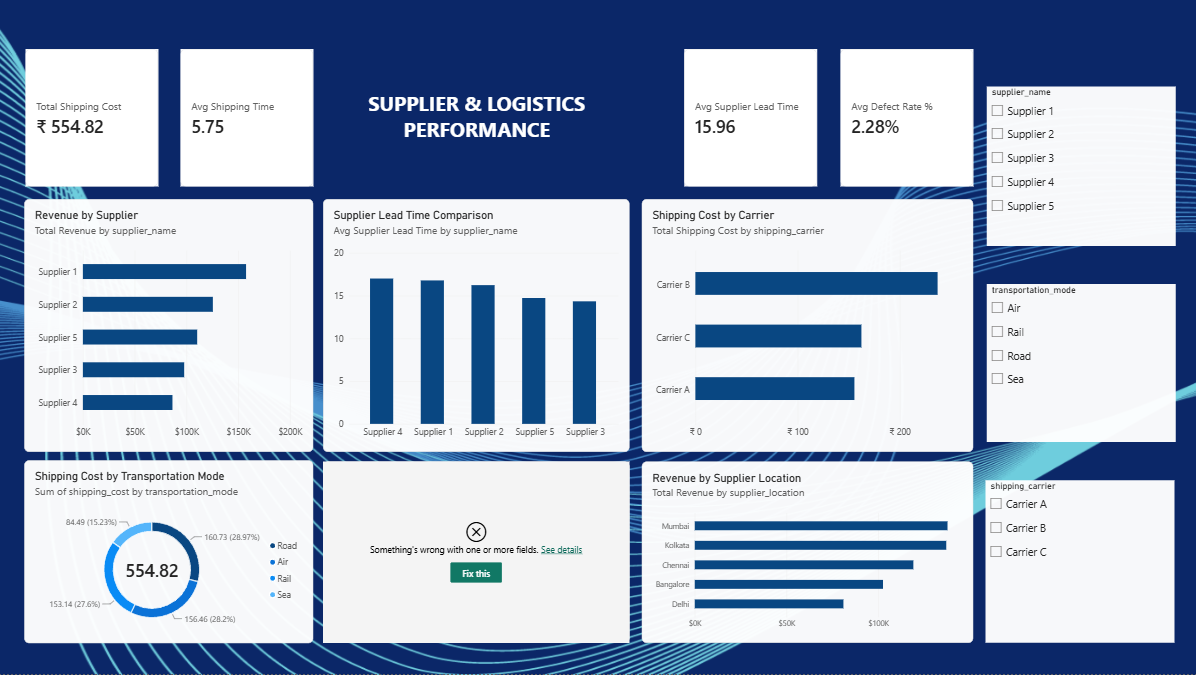

This screenshot's page, from the dashboard's own definition file:
{"tool":"powerbi","page":{"name":"Supplier & Logistics Performance","canvas":[1920,1080],"ordinal":2},"visuals":[{"type":"cardVisual","fields":{"Data":["supply_chain_analytics supply_chain_data.Total Shipping Cost"]},"box":[43.8,80,212.5,220],"z":0},{"type":"cardVisual","fields":{"Data":["supply_chain_analytics supply_chain_data.Avg Shipping Time"]},"box":[292.5,80,212.5,220],"z":1000},{"type":"cardVisual","fields":{"Data":["supply_chain_analytics supply_chain_data.Avg Supplier Lead Time"]},"box":[1097.5,80,212.5,220],"z":2000},{"type":"cardVisual","fields":{"Data":["supply_chain_analytics supply_chain_data.Avg Defect Rate %"]},"box":[1347.5,80,212.5,220],"z":3000},{"type":"clusteredBarChart","title":"Revenue by Supplier","fields":{"Category":["supply_chain_analytics supply_chain_data.supplier_name"],"Y":["supply_chain_analytics supply_chain_data.Total Revenue"]},"box":[42.5,320,462.5,405],"z":4000},{"type":"clusteredColumnChart","title":"Supplier Lead Time Comparison","fields":{"Category":["supply_chain_analytics supply_chain_data.supplier_name"],"Y":["supply_chain_analytics supply_chain_data.Avg Supplier Lead Time"]},"box":[520,320,490,405],"z":5000},{"type":"clusteredBarChart","title":"Shipping Cost by Carrier","fields":{"Category":["supply_chain_analytics supply_chain_data.shipping_carrier"],"Y":["supply_chain_analytics supply_chain_data.Total Shipping Cost"]},"box":[1030,320,530,405],"z":6000},{"type":"donutChart","title":"Shipping Cost by Transportation Mode","fields":{"Category":["supply_chain_analytics supply_chain_data.transportation_mode"],"Y":["Sum(supply_chain_analytics supply_chain_data.shipping_cost)"]},"box":[42.5,737.5,462.5,292.5],"z":7000},{"type":"clusteredBarChart","title":"Defect Rate by Supplier","fields":{"Category":["supply_chain_analytics supply_chain_data.supplier_name"],"Y":["supply_chain_analytics supply_chain_data.Avg Defect Rate"]},"box":[520,740,490,290],"z":8000},{"type":"barChart","title":"Revenue by Supplier Location","fields":{"Category":["supply_chain_analytics supply_chain_data.supplier_location"],"Y":["supply_chain_analytics supply_chain_data.Total Revenue"]},"box":[1030,740,530,290],"z":9000},{"type":"slicer","fields":{"Values":["supply_chain_analytics supply_chain_data.supplier_name"]},"box":[1582.5,140,302.5,255],"z":9001},{"type":"slicer","fields":{"Values":["supply_chain_analytics supply_chain_data.transportation_mode"]},"box":[1582.5,455,302.5,252.5],"z":9002},{"type":"slicer","fields":{"Values":["supply_chain_analytics supply_chain_data.shipping_carrier"]},"box":[1580,770,302.5,260],"z":9003},{"type":"textbox","box":[587.5,143.8,356.2,91.2],"z":9004}]}

Visuals, with their boxes in screenshot pixels (x1, y1, x2, y2), scaled from the page's 1920x1080 canvas onto the 1196x675 screenshot:
cardVisual - supply_chain_analytics supply_chain_data.Total Shipping Cost: Rect(27, 50, 160, 188)
cardVisual - supply_chain_analytics supply_chain_data.Avg Shipping Time: Rect(182, 50, 315, 188)
cardVisual - supply_chain_analytics supply_chain_data.Avg Supplier Lead Time: Rect(684, 50, 816, 188)
cardVisual - supply_chain_analytics supply_chain_data.Avg Defect Rate %: Rect(839, 50, 972, 188)
"Revenue by Supplier" clusteredBarChart: Rect(26, 200, 315, 453)
"Supplier Lead Time Comparison" clusteredColumnChart: Rect(324, 200, 629, 453)
"Shipping Cost by Carrier" clusteredBarChart: Rect(642, 200, 972, 453)
"Shipping Cost by Transportation Mode" donutChart: Rect(26, 461, 315, 644)
"Defect Rate by Supplier" clusteredBarChart: Rect(324, 462, 629, 644)
"Revenue by Supplier Location" barChart: Rect(642, 462, 972, 644)
slicer - supply_chain_analytics supply_chain_data.supplier_name: Rect(986, 88, 1174, 247)
slicer - supply_chain_analytics supply_chain_data.transportation_mode: Rect(986, 284, 1174, 442)
slicer - supply_chain_analytics supply_chain_data.shipping_carrier: Rect(984, 481, 1173, 644)
textbox: Rect(366, 90, 588, 147)
